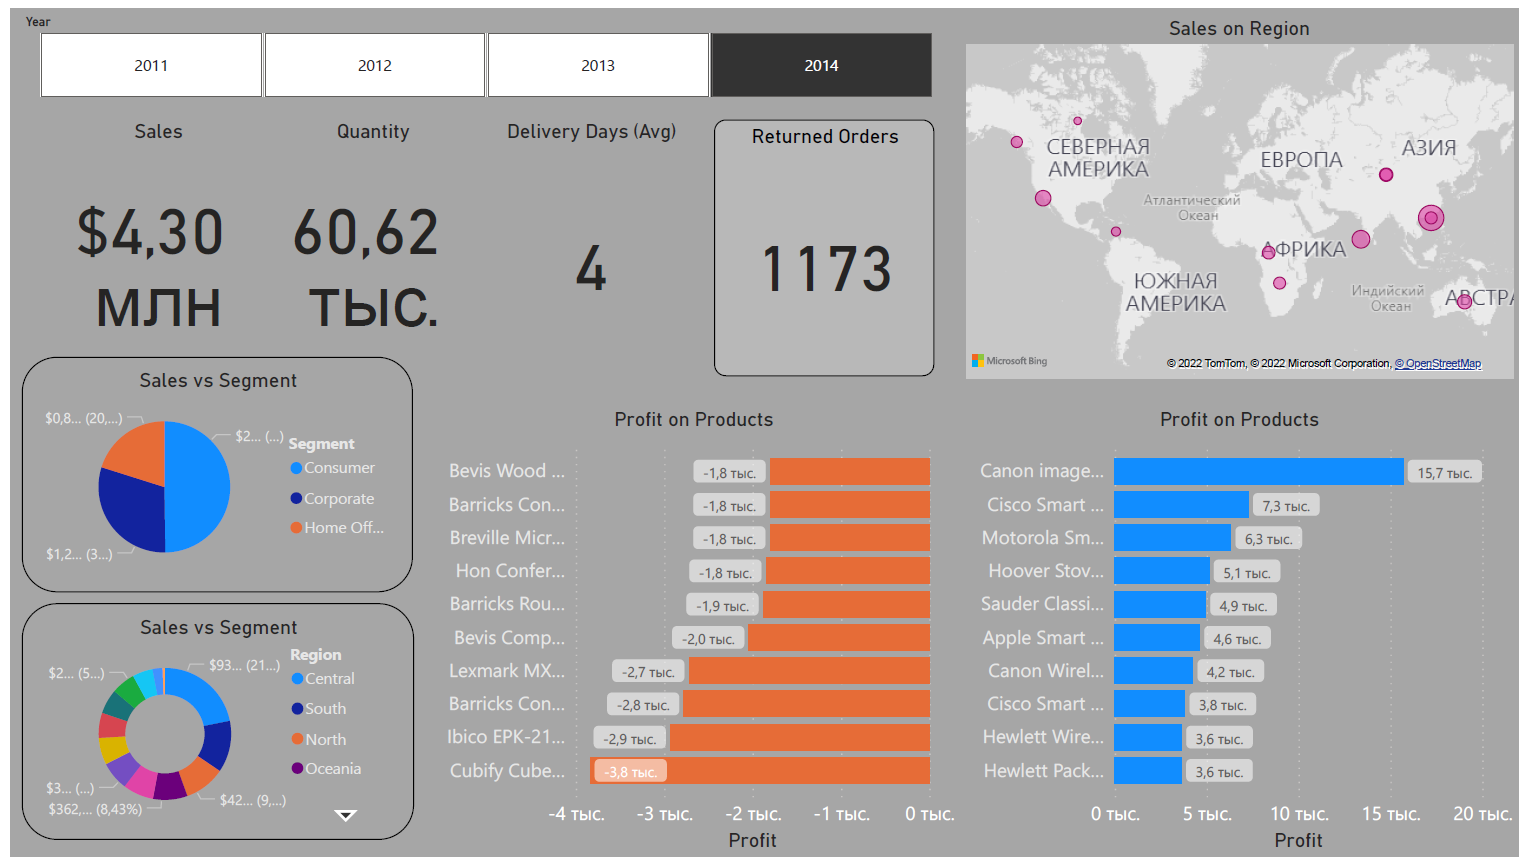

The page's visual inventory and layout, read from the dashboard file:
{"tool":"powerbi","page":{"name":"Страница 1","canvas":[1280,720],"ordinal":0},"visuals":[{"type":"card","title":"Sales","fields":{"Values":["Sum(Orders.Sales)"]},"box":[9.7,94.3,232.5,217.9],"z":0},{"type":"card","title":"Quantity","fields":{"Values":["Sum(Orders.Quantity)"]},"box":[195.5,94.3,225.7,217.9],"z":1000},{"type":"card","title":"Delivery Days (Avg)","fields":{"Values":["Avg(Orders.Delivery Days)"]},"box":[376.4,94.3,233.4,217.9],"z":2000},{"type":"slicer","fields":{"Values":["Orders.Year"]},"box":[0,0,806.3,81.7],"z":3000},{"type":"card","title":"Returned Orders","fields":{"Values":["Sum(Returns.Return Orders)"]},"box":[597.2,94.3,186.7,217.9],"z":4000},{"type":"map","title":"Sales on Region","fields":{"Category":["Orders.Region"],"Size":["Sum(Orders.Sales)"]},"box":[806.3,6.8,473.7,312.2],"z":5000},{"type":"barChart","title":"Profit on Products","fields":{"Category":["Orders.Product Name"],"Y":["Sum(Orders.Profit)"]},"box":[806.3,338.5,473.7,381.3],"z":6000},{"type":"barChart","title":"Profit on Products","fields":{"Category":["Orders.Product Name"],"Y":["Sum(Orders.Profit)"]},"box":[354,338.5,452.3,381.3],"z":7000},{"type":"pieChart","title":"Sales vs Segment","fields":{"Category":["Orders.Segment"],"Y":["Sum(Orders.Sales)"]},"box":[9.7,295.7,331.7,200.4],"z":7001},{"type":"donutChart","title":"Sales vs Segment","fields":{"Category":["Orders.Region"],"Y":["Sum(Orders.Sales)"]},"box":[9.7,504.8,332.6,201.3],"z":7002}]}

Visuals, with their boxes in screenshot pixels (x1, y1, x2, y2), scaled from the page's 1280x720 canvas onto the 1526x863 screenshot:
"Sales" card: 12,113,289,374
"Quantity" card: 233,113,502,374
"Delivery Days (Avg)" card: 449,113,727,374
slicer - Orders.Year: 0,0,961,98
"Returned Orders" card: 712,113,935,374
"Sales on Region" map: 961,8,1525,382
"Profit on Products" barChart: 961,406,1525,862
"Profit on Products" barChart: 422,406,961,862
"Sales vs Segment" pieChart: 12,354,407,595
"Sales vs Segment" donutChart: 12,605,408,846
